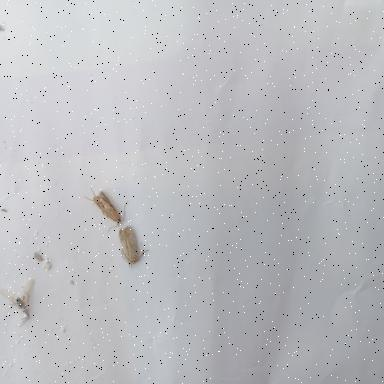pbw: (83, 186, 129, 232), (118, 226, 150, 268)
